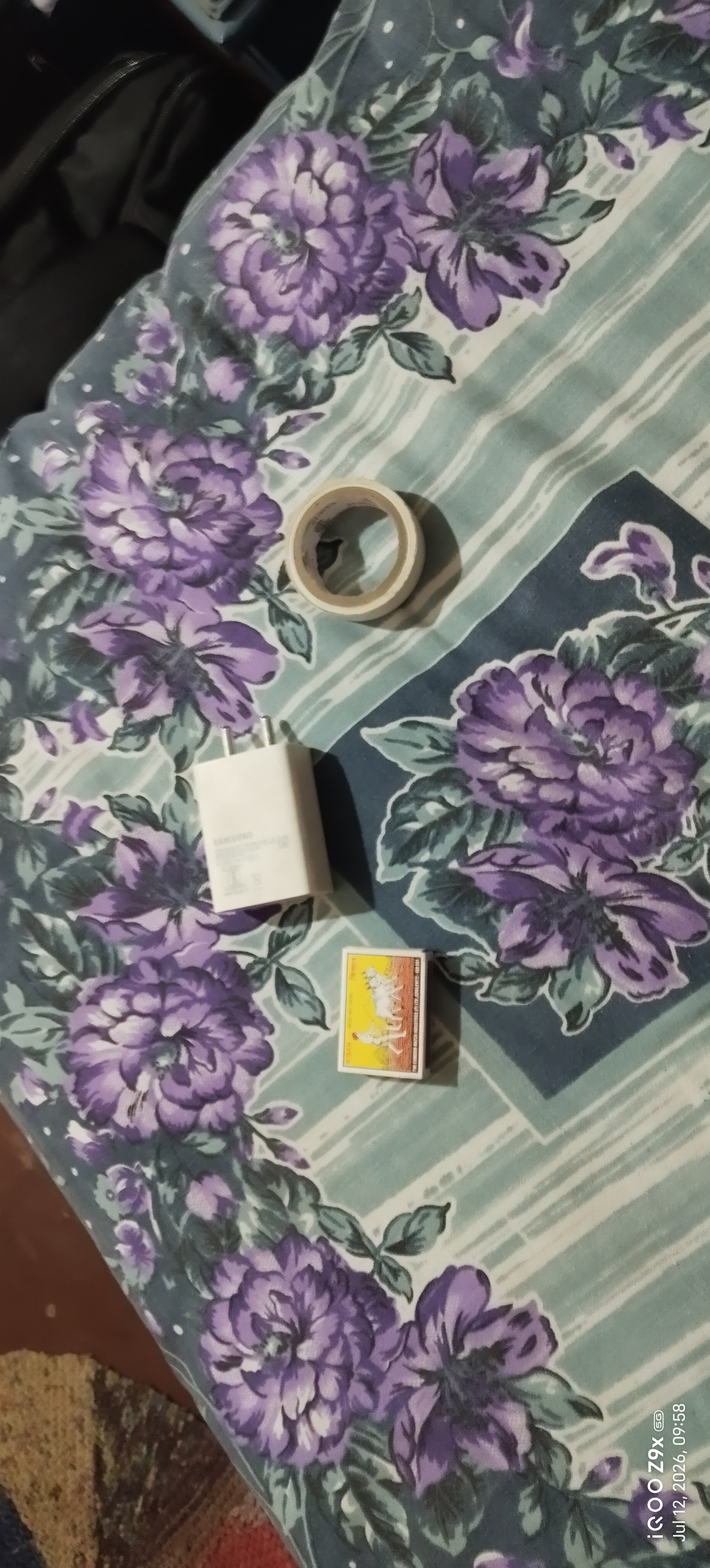charger: (176, 700, 344, 941)
matchbox: (325, 933, 443, 1093)
tape_roll: (280, 472, 436, 636)
